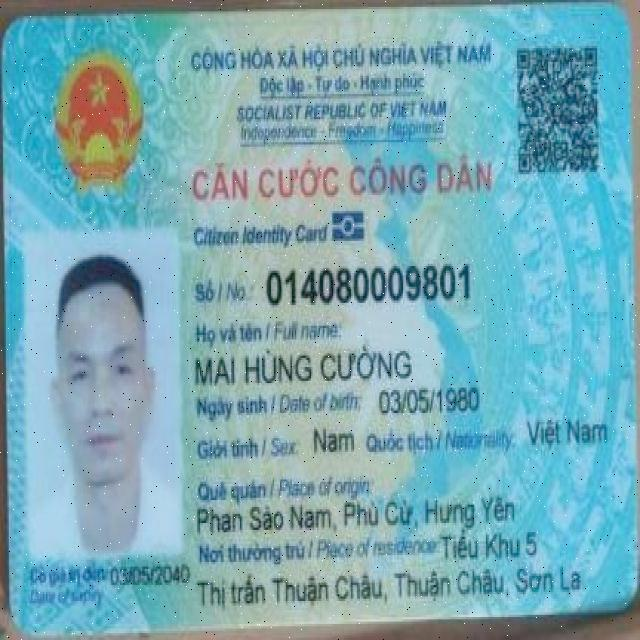current_place: (189, 562, 589, 613), (436, 528, 547, 565)
dob: (372, 385, 488, 421)
expire_date: (105, 559, 193, 601)
gender: (304, 425, 358, 463)
id: (259, 255, 483, 309)
name: (187, 344, 471, 387)
nationality: (519, 411, 613, 459)
origin_place: (189, 493, 523, 534)
